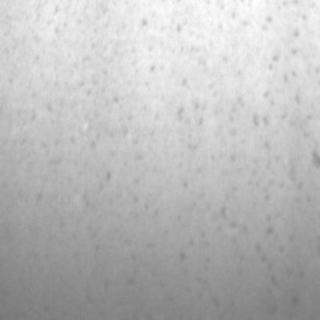pitted_surface: (176, 0, 310, 300), (26, 4, 150, 222)
